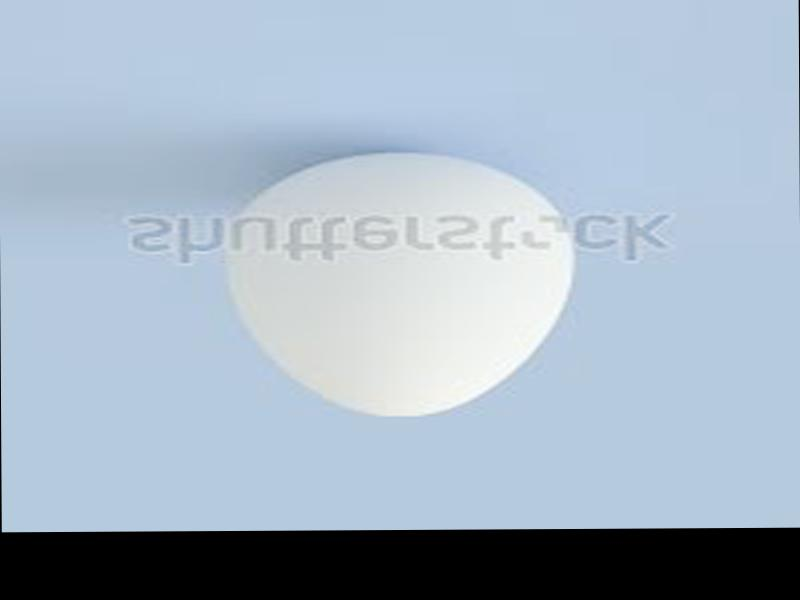Eggs: (225, 149, 576, 416)
